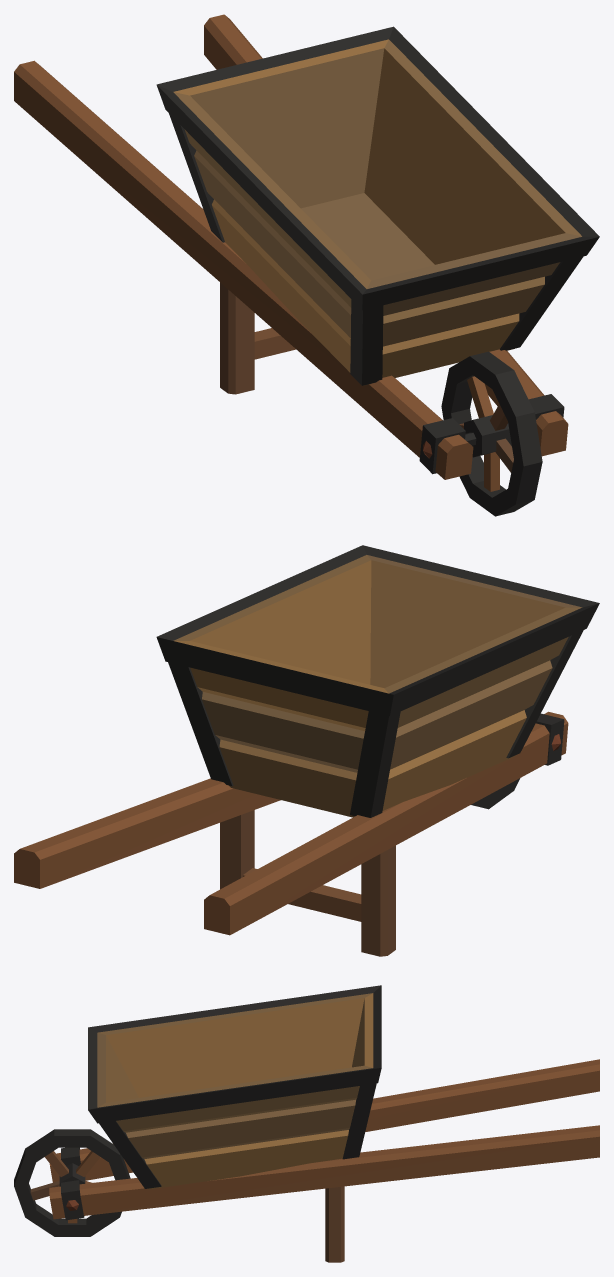
Rendered from ore_barrow.glb.
The picture shows the model from 3 angles, top to bottom: view 1: azimuth 30°, elevation 25°; view 2: azimuth 150°, elevation 25°; view 3: azimuth 270°, elevation 25°; orthographic projection. The views are drawn at different scales.
Visible parts, largest first — view 1: barrow-body, wheel-mesh; view 2: barrow-body; view 3: barrow-body, wheel-mesh.
Boxes of the visible parts, left/top/right/bottom form: barrow-body: left=14, top=14, right=599, bottom=479; wheel-mesh: left=441, top=351, right=542, bottom=516; barrow-body: left=14, top=545, right=599, bottom=956; barrow-body: left=49, top=985, right=599, bottom=1262; wheel-mesh: left=14, top=1129, right=130, bottom=1236.
Size of the model in its own units: 0.5 by 0.5849 by 1.5.
